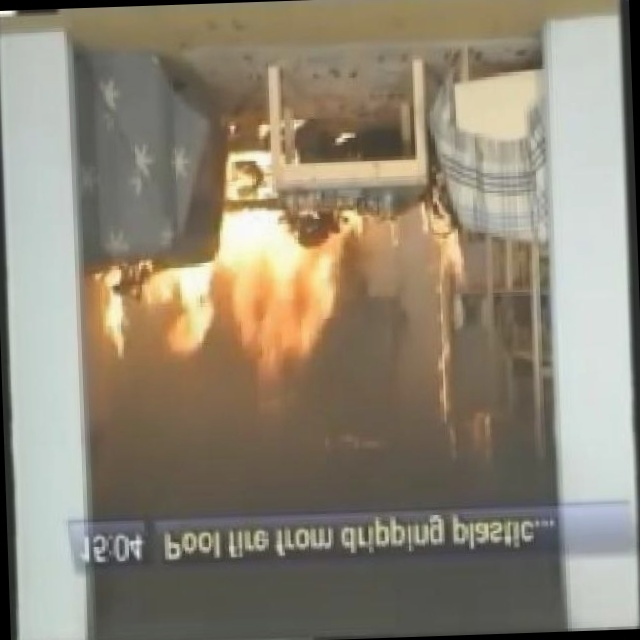fire: (88, 215, 372, 387)
